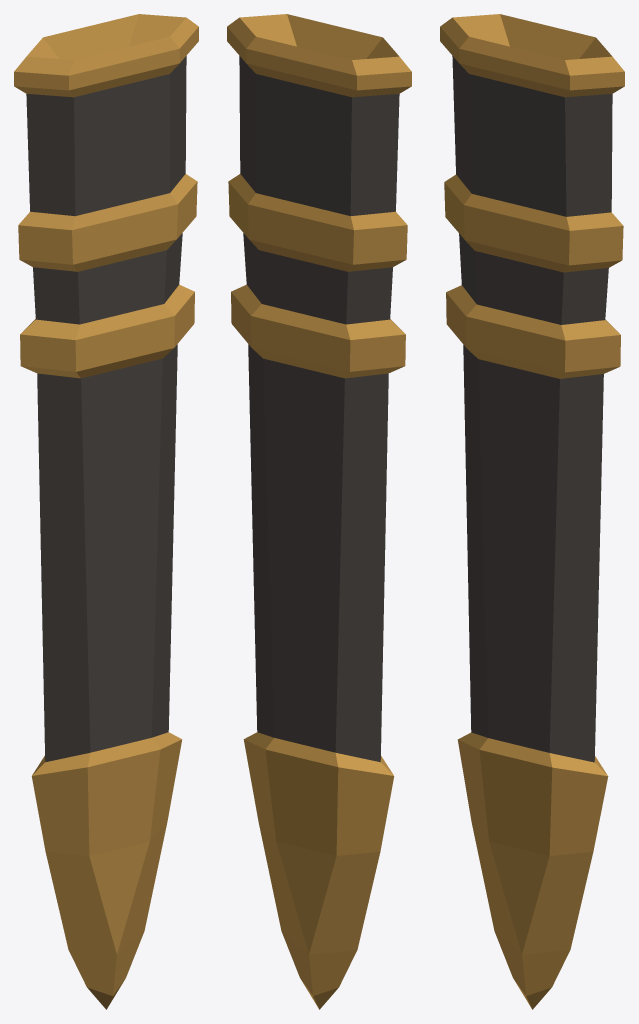
The model's file is SM_pwe_medieval_dagger_scabbard_04.fbx.
The picture shows the model from 3 angles, left to right: view 1: azimuth 30°, elevation 25°; view 2: azimuth 150°, elevation 25°; view 3: azimuth 330°, elevation 25°; orthographic projection.
Visible parts, largest first — view 1: SM_pwe_medieval_dagger_scabbard_04; view 2: SM_pwe_medieval_dagger_scabbard_04; view 3: SM_pwe_medieval_dagger_scabbard_04.
Boxes of the visible parts, x1,y1,x2,y2 form: SM_pwe_medieval_dagger_scabbard_04: [14, 14, 198, 1009]; SM_pwe_medieval_dagger_scabbard_04: [227, 14, 411, 1009]; SM_pwe_medieval_dagger_scabbard_04: [440, 14, 624, 1009].
Bounding box in the file's own units: 7.68 × 38.65 × 2.58.
